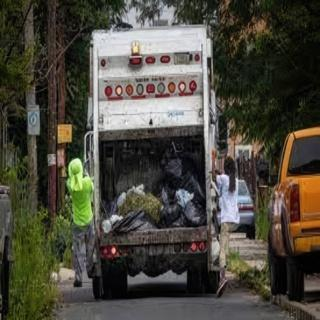Garbage: (159, 144, 207, 203), (109, 209, 157, 230), (156, 199, 181, 227), (182, 199, 206, 227)
